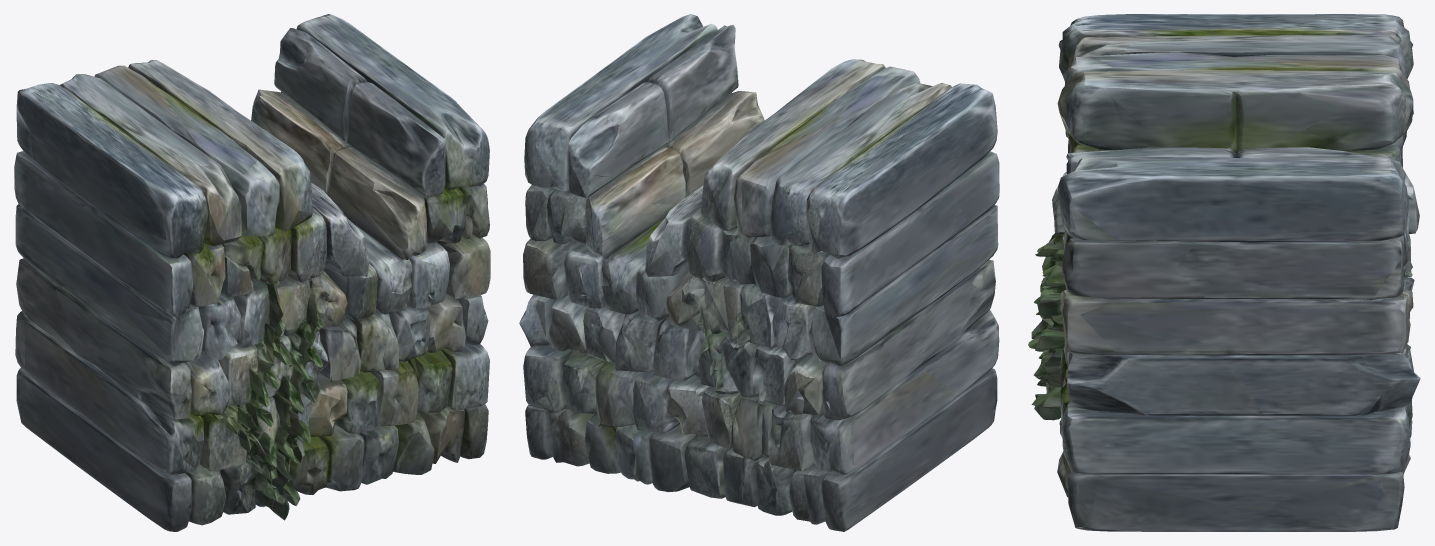
Rendered from wall-seg.glb.
3 renders of one model, left to right at view 1: azimuth 30°, elevation 25°; view 2: azimuth 150°, elevation 25°; view 3: azimuth 270°, elevation 25°, orthographic. The views are drawn at different scales.
Visible parts, largest first — view 1: Mesh_0; view 2: Mesh_0; view 3: Mesh_0.
Boxes of the visible parts, left/top/right/bottom form: Mesh_0: left=14, top=14, right=490, bottom=531; Mesh_0: left=519, top=14, right=999, bottom=531; Mesh_0: left=1028, top=14, right=1420, bottom=531.
Bounding box in the file's own units: 1 × 1 × 1.
1 material, 1 textured.
